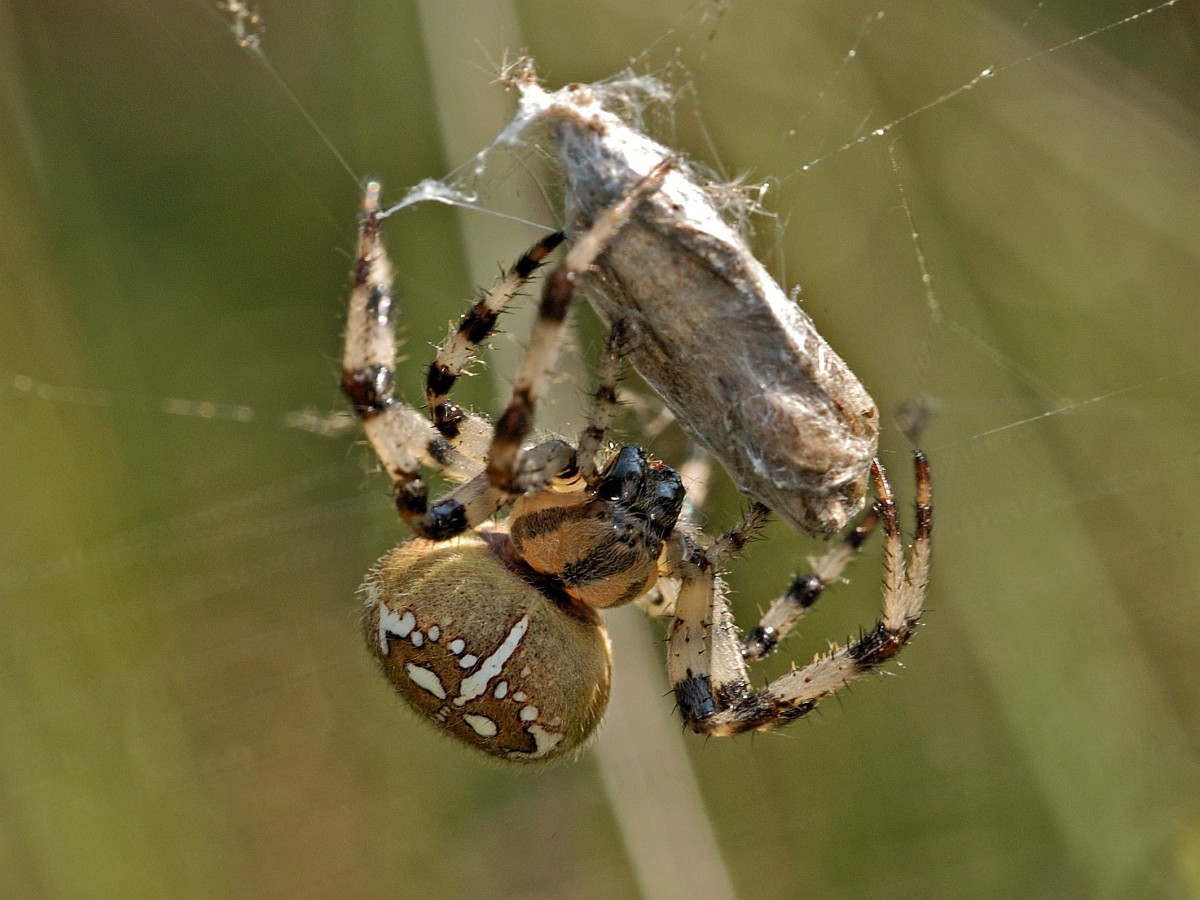spider: (237, 102, 969, 777)
